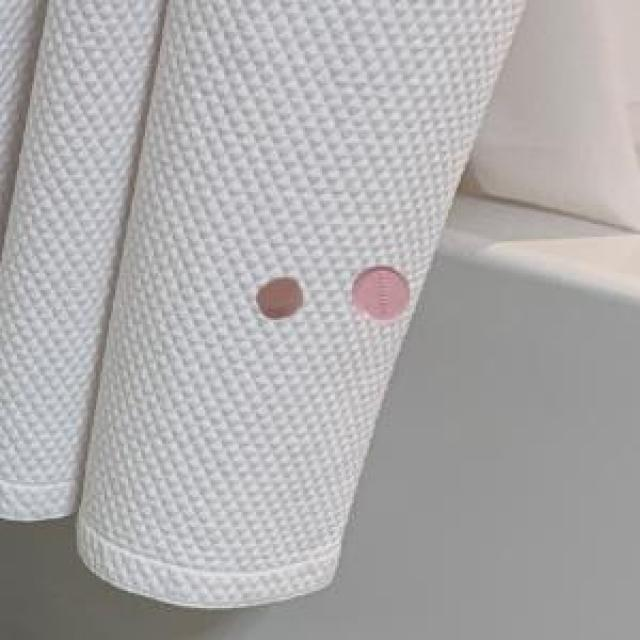Kremil_S: (343, 256, 419, 326), (252, 264, 302, 325)
